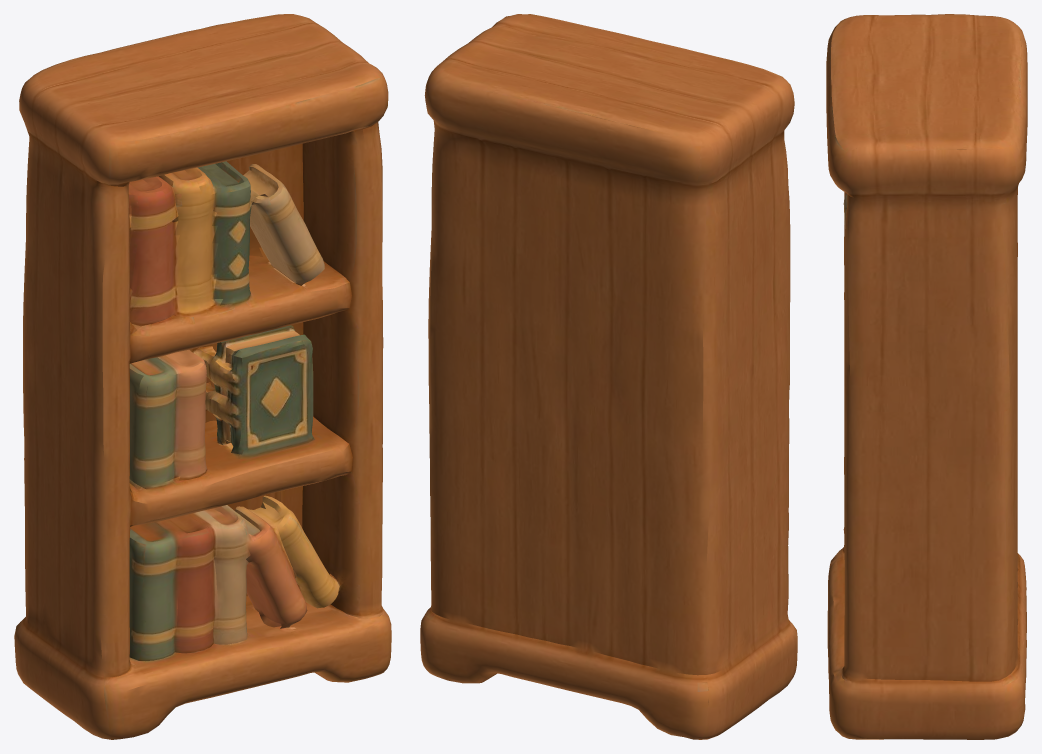
Rendered from Meshy_AI_model.glb.
3 views of the same model, side by side, from view 1: azimuth 30°, elevation 25°; view 2: azimuth 150°, elevation 25°; view 3: azimuth 270°, elevation 25° (orthographic).
Visible parts, largest first — view 1: Mesh0; view 2: Mesh0; view 3: Mesh0.
Boxes of the visible parts, x1,y1,x2,y2 form: Mesh0: [14, 14, 391, 739]; Mesh0: [420, 14, 797, 739]; Mesh0: [826, 14, 1027, 739].
Bounding box in the file's own units: 0.9912 × 1.9 × 0.5827.
Materials: 1 (1 with a texture image).
